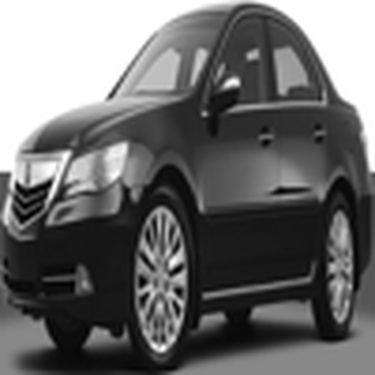car: (8, 6, 370, 372)
